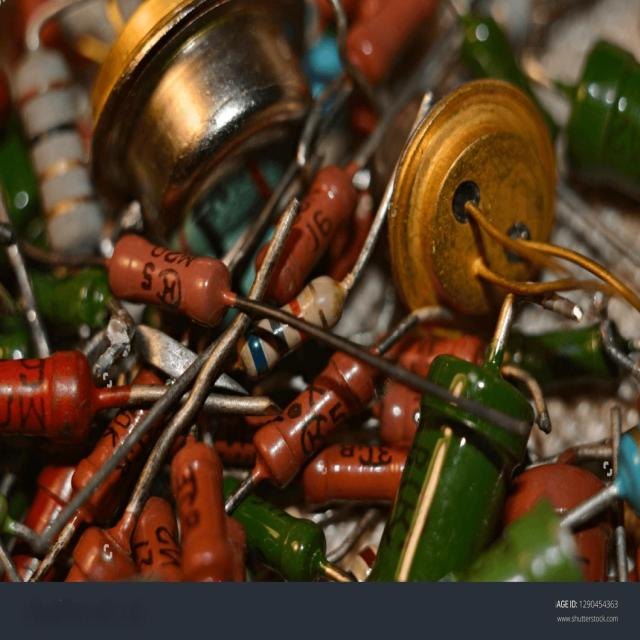Capacitors: (370, 395, 526, 580), (251, 353, 378, 487), (429, 298, 534, 425), (264, 165, 358, 305), (105, 235, 232, 326), (171, 436, 246, 582)
